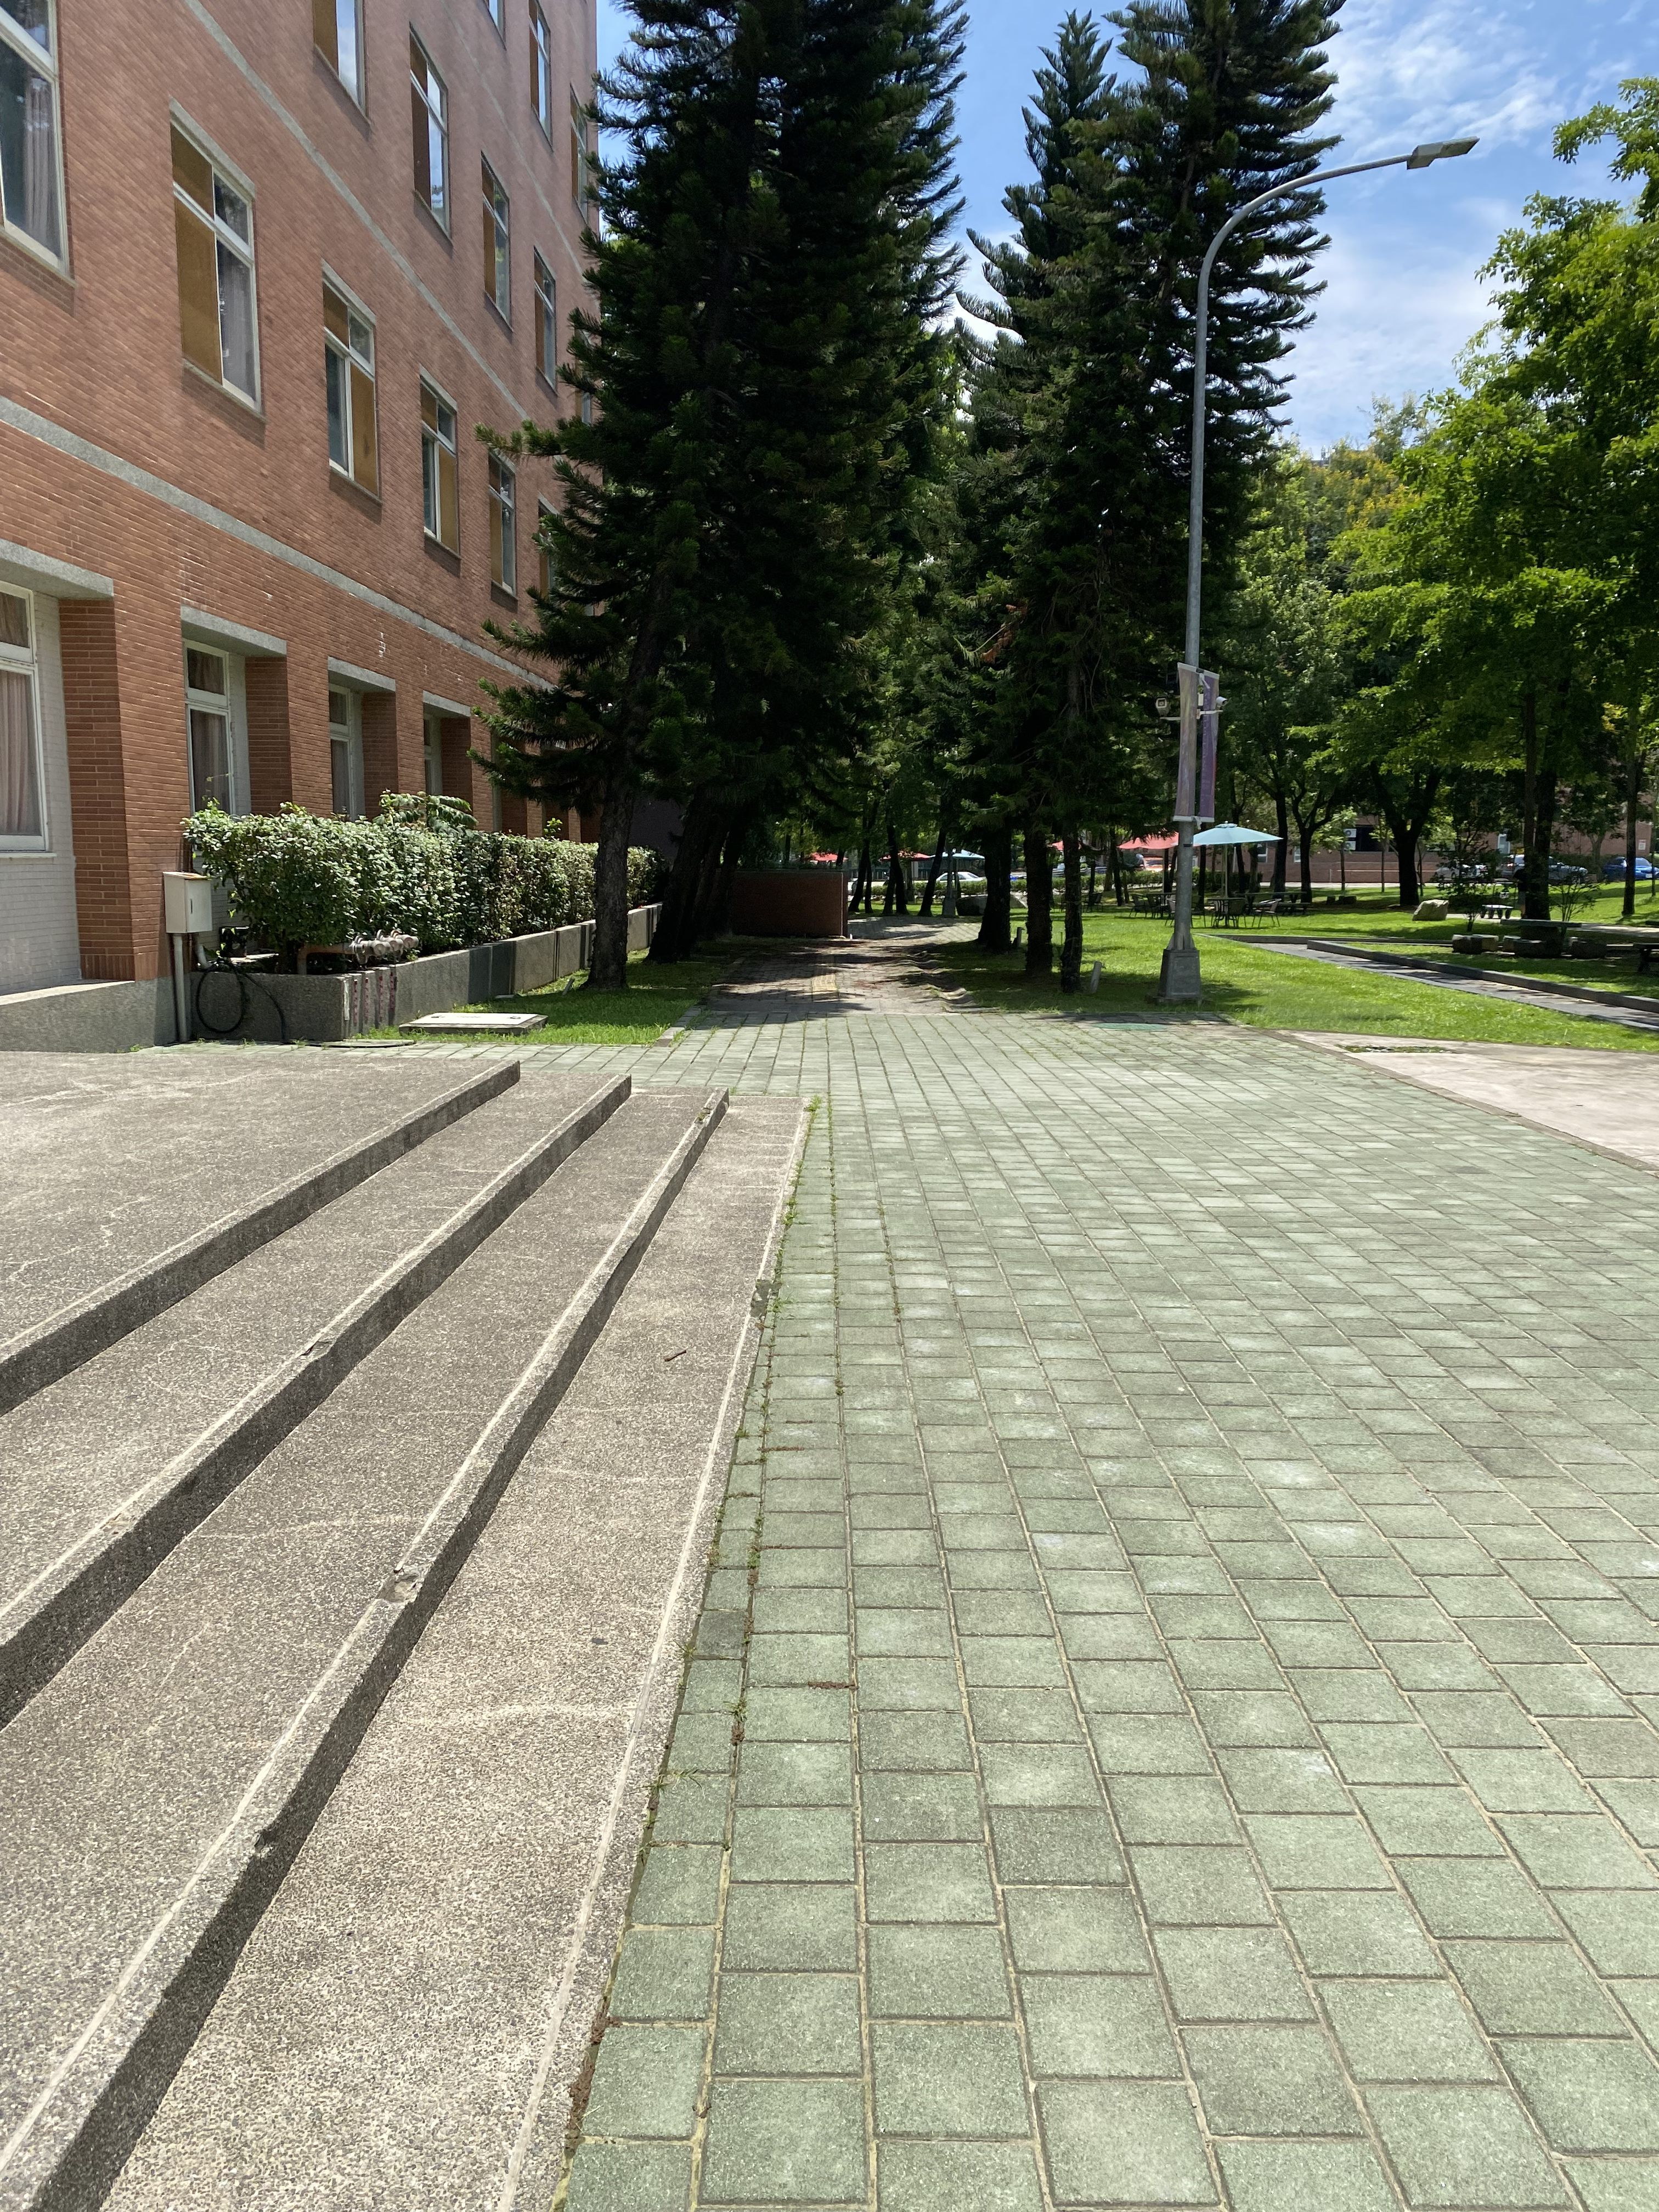sidewalk: (549, 824, 1659, 2212)
